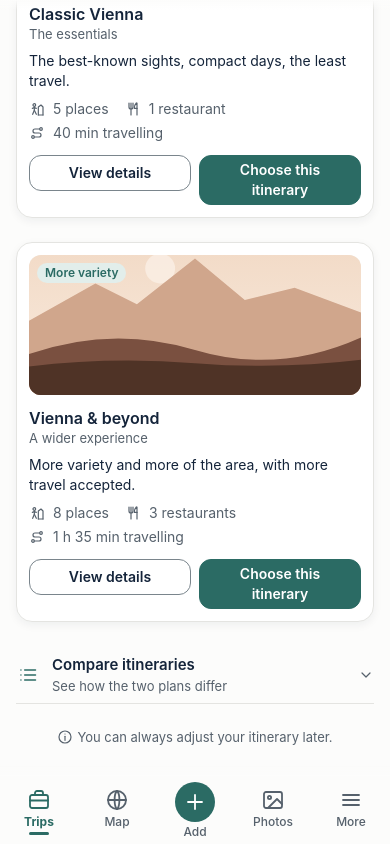
a failed selection says so and leaves the choice open
(page scrolled)
Click the button with aria-label "Select the Wider plan": [280, 584] box [199,559,361,609]
(page scrolled)
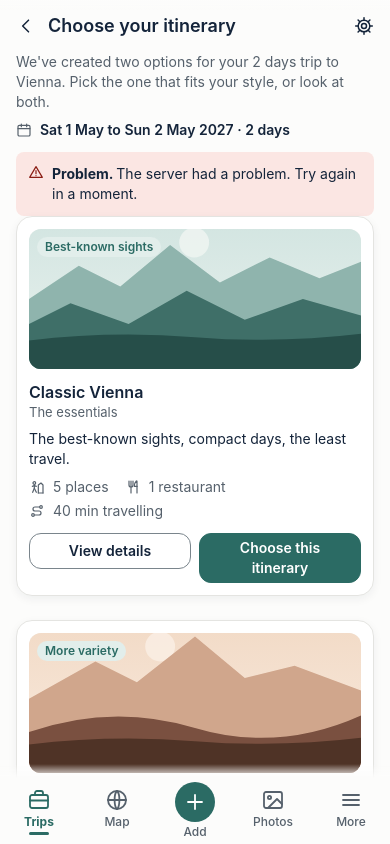
Result: the text "Problem. The server had a problem. Try again in a moment." is shown at [52,164,362,204]
